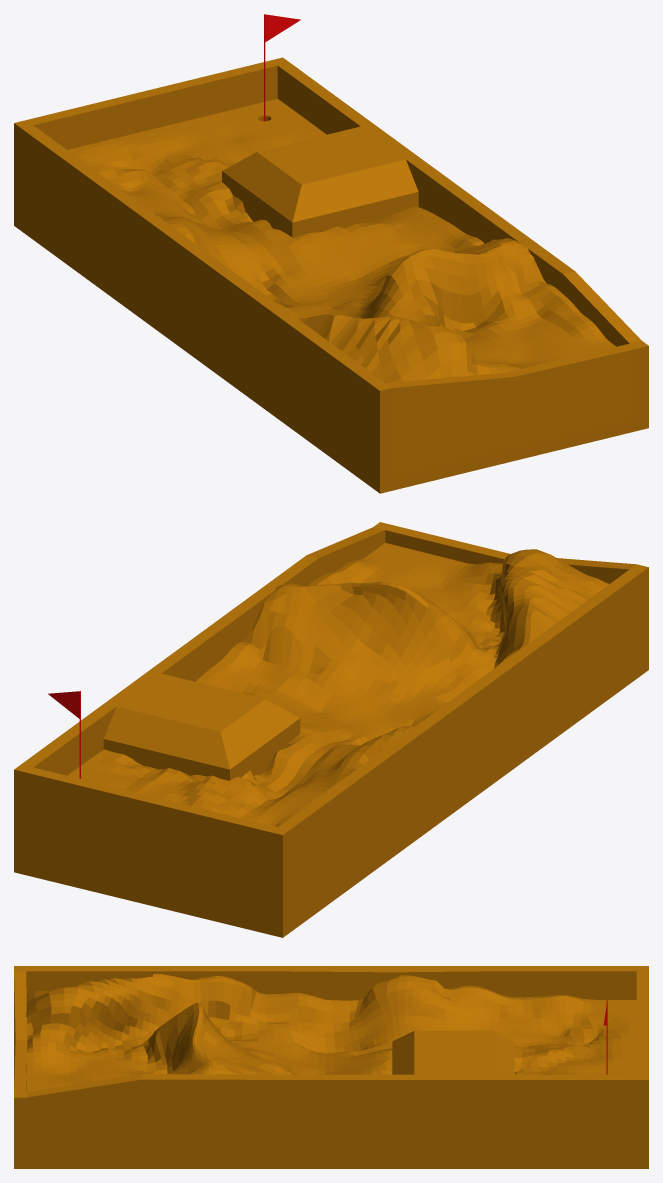
The model's file is level_17.glb.
3 renders of one model, top to bottom at view 1: azimuth 30°, elevation 25°; view 2: azimuth 150°, elevation 25°; view 3: azimuth 270°, elevation 25°, orthographic. The views are drawn at different scales.
Visible parts, largest first — view 1: green, flag; view 2: green, flag; view 3: green.
Part boxes in pixels (x1=…): green: x1=14, y1=57, x2=648, y2=493; flag: x1=264, y1=14, x2=300, y2=121; green: x1=14, y1=522, x2=648, y2=937; flag: x1=48, y1=691, x2=80, y2=778; green: x1=14, y1=966, x2=648, y2=1168.
Bounding box in the file's own units: 2.2 × 1.36 × 5.19.
